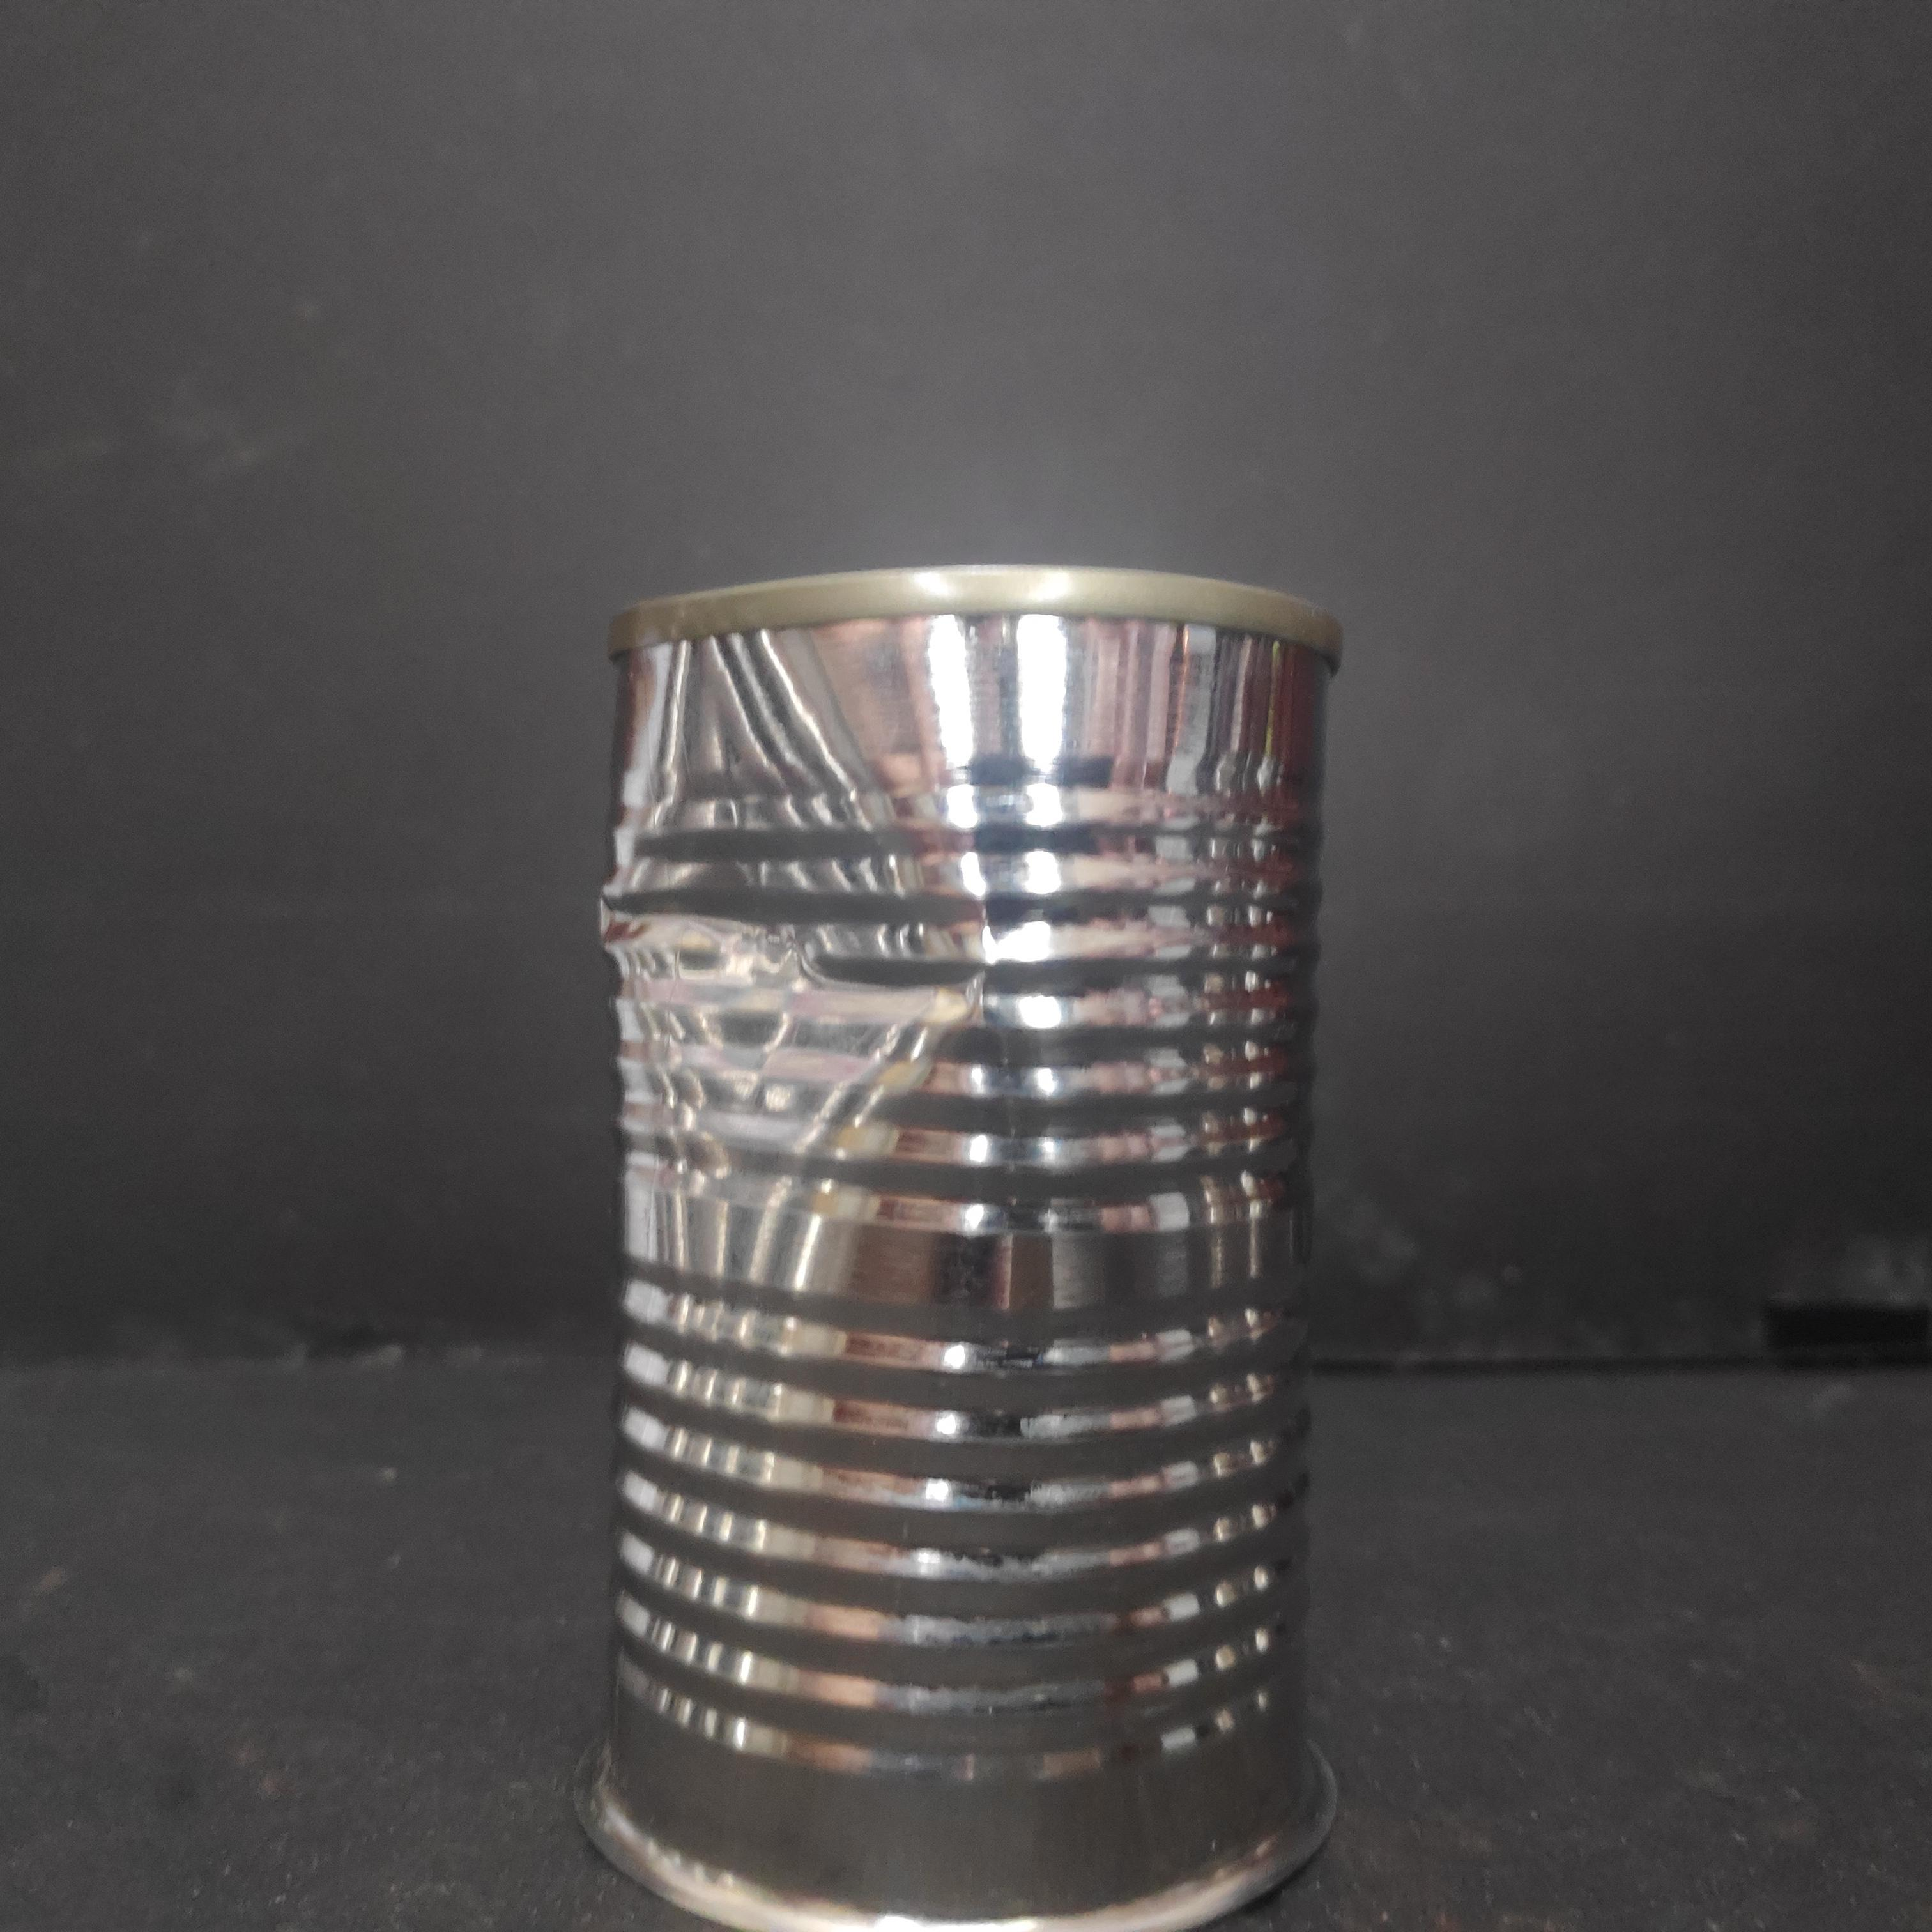Minor Defect: (593, 557, 1352, 1932)
